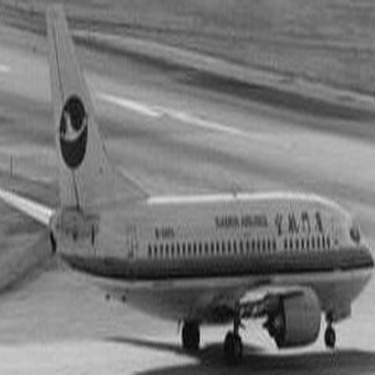airplane: (7, 6, 368, 371)
